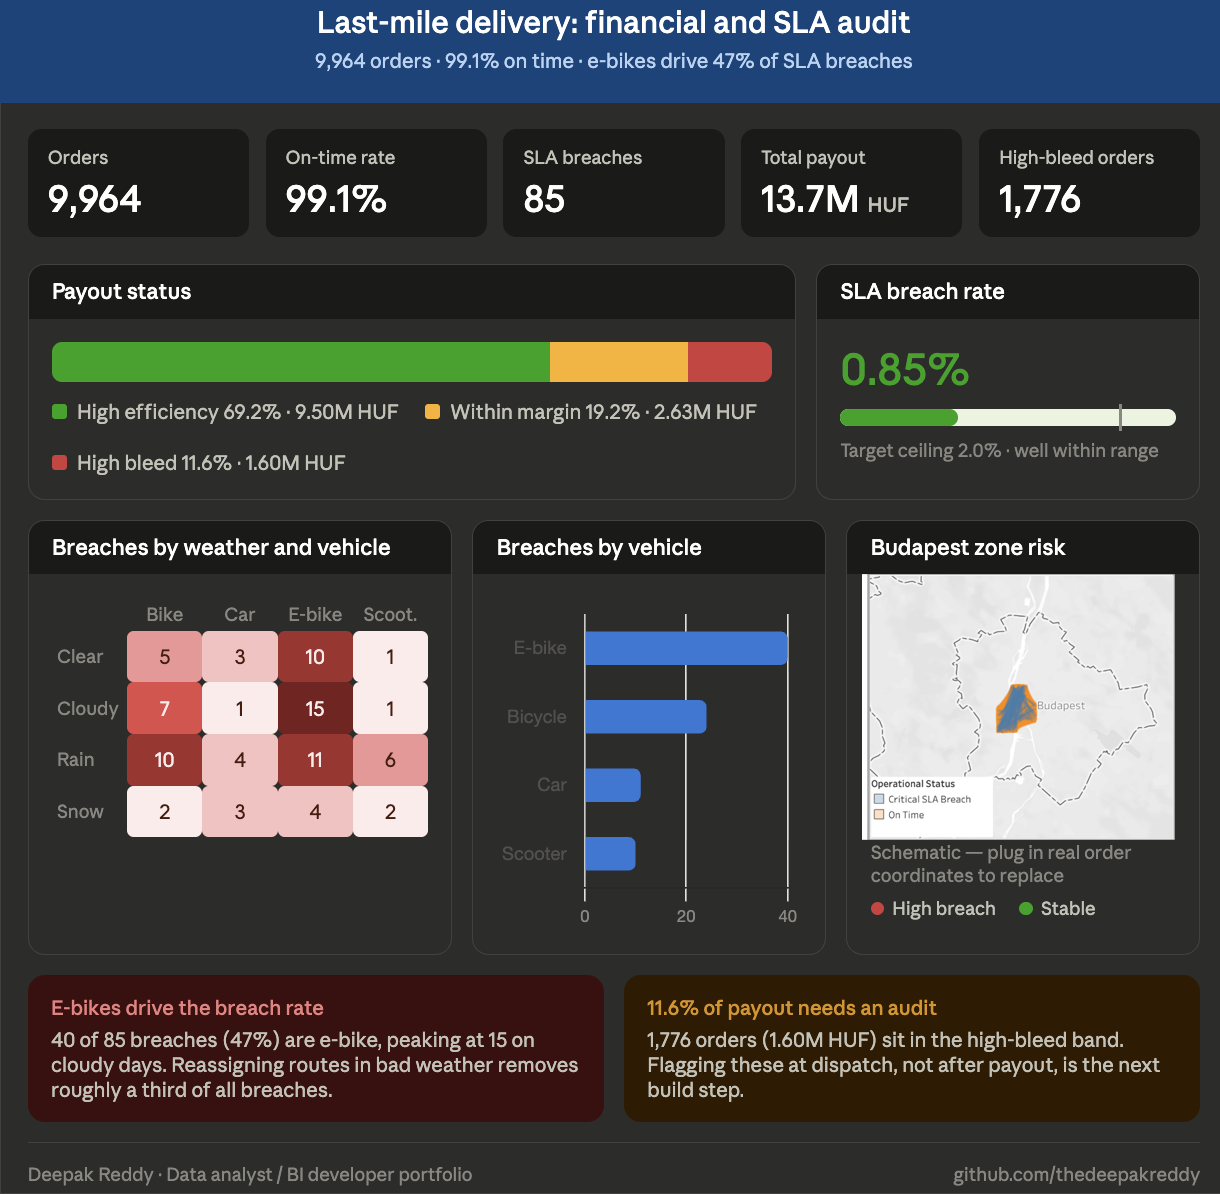

What the dashboard file says about the page in this screenshot:
{"tool":"tableau","page":{"name":"Dashboard 1","canvas":[1000,1000],"units":"permille","ordinal":0},"visuals":[{"type":"text","box":[10.6,24.9,982.9,46.7]},{"type":"legend","title":"The Financial Bleed Overview","param":"[federated.1km91tp10gfmxw11gti1c1b0tnik].[none:financial_status:nk]","box":[882.5,80.9,99.5,105.8]},{"type":"worksheet","title":"Financial Bleed","mark":"Automatic","box":[741.4,84,132.1,90.2]},{"type":"worksheet","title":"No of Orders","mark":"Automatic","box":[25.3,85.5,112.6,93.3]},{"type":"worksheet","title":"Total Payout (HUF)","mark":"Automatic","box":[186,85.5,127.2,93.3]},{"type":"worksheet","title":"Delayed Orders","mark":"Automatic","box":[376,85.5,132.1,91.8]},{"type":"worksheet","title":"On-Time Delivery","mark":"Automatic","box":[553.8,87.1,150.1,87.1]},{"type":"worksheet","title":"Gauge - SLA Breach","mark":"Pie","cols":["Calculation_999517646398996484","Calculation_999517646399057926"],"box":[447.8,186.6,238.2,303.3]},{"type":"worksheet","title":"Gauge - High Bleed","mark":"Pie","cols":["Calculation_999517646398996484","Calculation_999517646399057926"],"box":[211.3,189.7,231.7,304.8]},{"type":"worksheet","title":"Cost Curve Analysis","mark":"Automatic","rows":["actual_cost_per_km","cohort_avg_cost_per_km"],"cols":["shift_hour"],"box":[9,191.3,199.3,301.7]},{"type":"worksheet","title":"The Financial Bleed Overview","mark":"Automatic","rows":["financial_status"],"cols":["final_payout_huf"],"box":[692.5,192.8,290.4,301.7]},{"type":"legend","title":"Gauge - SLA Breach","param":"[federated.1km91tp10gfmxw11gti1c1b0tnik].[:Measure Names]","box":[109,340.6,87.9,73.1]},{"type":"worksheet","title":"SLA Breach Heatmap","mark":"Square","rows":["weather_condition"],"cols":["courier_vehicle"],"box":[291.2,502.3,317.3,471.2]},{"type":"legend","title":"SLA Breach Heatmap","param":"[federated.1km91tp10gfmxw11gti1c1b0tnik].[cnt:order_id:qk]","box":[493.5,503.9,113.4,65.3]},{"type":"worksheet","title":"Budapest Route Optimization Map","mark":"Automatic","box":[11.4,507,274.9,463.4]},{"type":"worksheet","title":"The Dual-Axis Fulfillment Density Map","mark":"Heatmap","rows":["Dropoff_Lat","Pickup_Lat"],"cols":["Dropoff_Lon"],"box":[611.8,510.1,368.7,472.8]},{"type":"legend","title":"Budapest Route Optimization Map","param":"[federated.1km91tp10gfmxw11gti1c1b0tnik].[none:operational_status:nk]","box":[14.7,870.9,108.2,93.3]}]}

Visuals, with their boxes on the dashboard's canvas, which has no fixed pixel size, in thousandths of its width and height (x1, y1, x2, y2). These are canvas units, not pixel positions in the 1220x1194 screenshot, which may show the page scaled, cropped or inside an application window:
text: {"x1": 11, "y1": 25, "x2": 994, "y2": 72}
"The Financial Bleed Overview" legend: {"x1": 882, "y1": 81, "x2": 982, "y2": 187}
"Financial Bleed" worksheet: {"x1": 741, "y1": 84, "x2": 874, "y2": 174}
"No of Orders" worksheet: {"x1": 25, "y1": 86, "x2": 138, "y2": 179}
"Total Payout (HUF)" worksheet: {"x1": 186, "y1": 86, "x2": 313, "y2": 179}
"Delayed Orders" worksheet: {"x1": 376, "y1": 86, "x2": 508, "y2": 177}
"On-Time Delivery" worksheet: {"x1": 554, "y1": 87, "x2": 704, "y2": 174}
"Gauge - SLA Breach" worksheet (Pie marks): {"x1": 448, "y1": 187, "x2": 686, "y2": 490}
"Gauge - High Bleed" worksheet (Pie marks): {"x1": 211, "y1": 190, "x2": 443, "y2": 494}
"Cost Curve Analysis" worksheet: {"x1": 9, "y1": 191, "x2": 208, "y2": 493}
"The Financial Bleed Overview" worksheet: {"x1": 692, "y1": 193, "x2": 983, "y2": 494}
"Gauge - SLA Breach" legend: {"x1": 109, "y1": 341, "x2": 197, "y2": 414}
"SLA Breach Heatmap" worksheet (Square marks): {"x1": 291, "y1": 502, "x2": 608, "y2": 974}
"SLA Breach Heatmap" legend: {"x1": 494, "y1": 504, "x2": 607, "y2": 569}
"Budapest Route Optimization Map" worksheet: {"x1": 11, "y1": 507, "x2": 286, "y2": 970}
"The Dual-Axis Fulfillment Density Map" worksheet (Heatmap marks): {"x1": 612, "y1": 510, "x2": 980, "y2": 983}
"Budapest Route Optimization Map" legend: {"x1": 15, "y1": 871, "x2": 123, "y2": 964}
